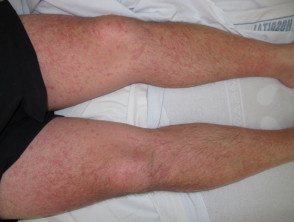SJS-TEN: (0, 96, 294, 222), (15, 0, 294, 115)
